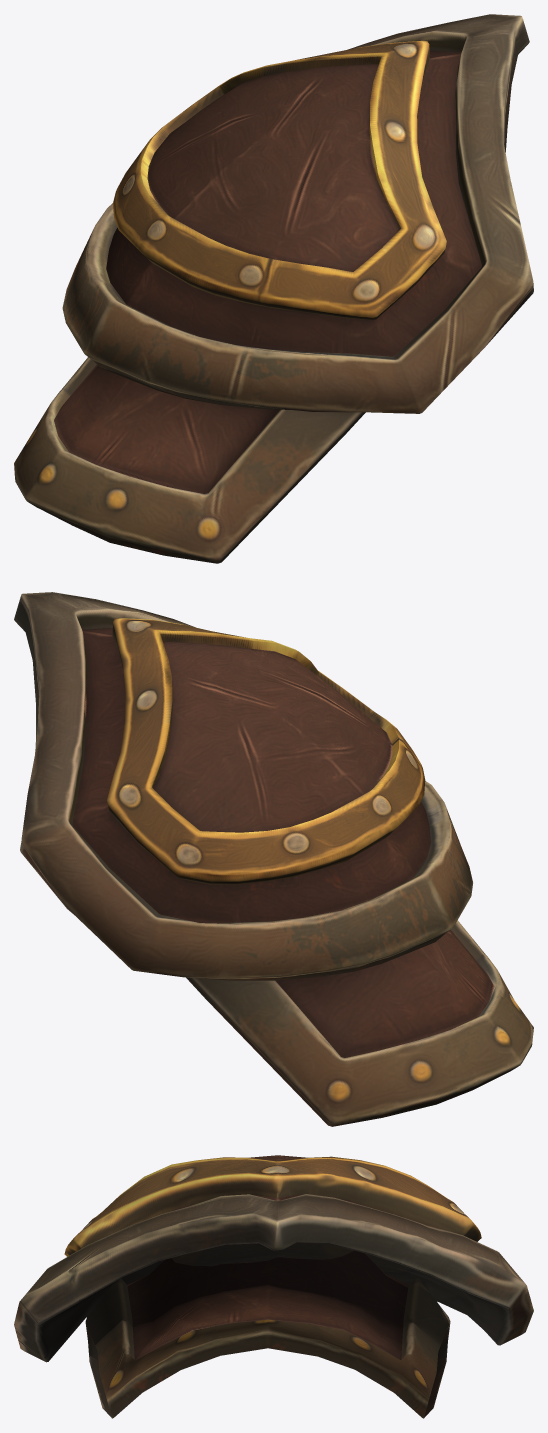
File: sm_armor_dwarf_dhodin_paldron_r.gltf
3 views of the same model, one above another, from view 1: azimuth 30°, elevation 25°; view 2: azimuth 150°, elevation 25°; view 3: azimuth 270°, elevation 25° (orthographic). The views are drawn at different scales.
Parts seen in each view (by area): view 1: sm_armor_dwarf_dhodin_paldron_r; view 2: sm_armor_dwarf_dhodin_paldron_r; view 3: sm_armor_dwarf_dhodin_paldron_r.
Boxes of the visible parts, left/top/right/bottom form: sm_armor_dwarf_dhodin_paldron_r: left=14, top=14, right=533, bottom=563; sm_armor_dwarf_dhodin_paldron_r: left=14, top=592, right=533, bottom=1126; sm_armor_dwarf_dhodin_paldron_r: left=14, top=1155, right=533, bottom=1418.
Size of the model in its own units: 0.4474 by 0.3299 by 0.4086.
1 material, 1 textured.
